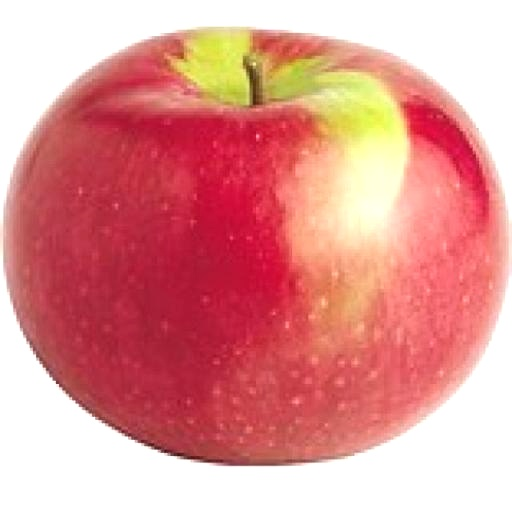fruit: (4, 29, 506, 463)
